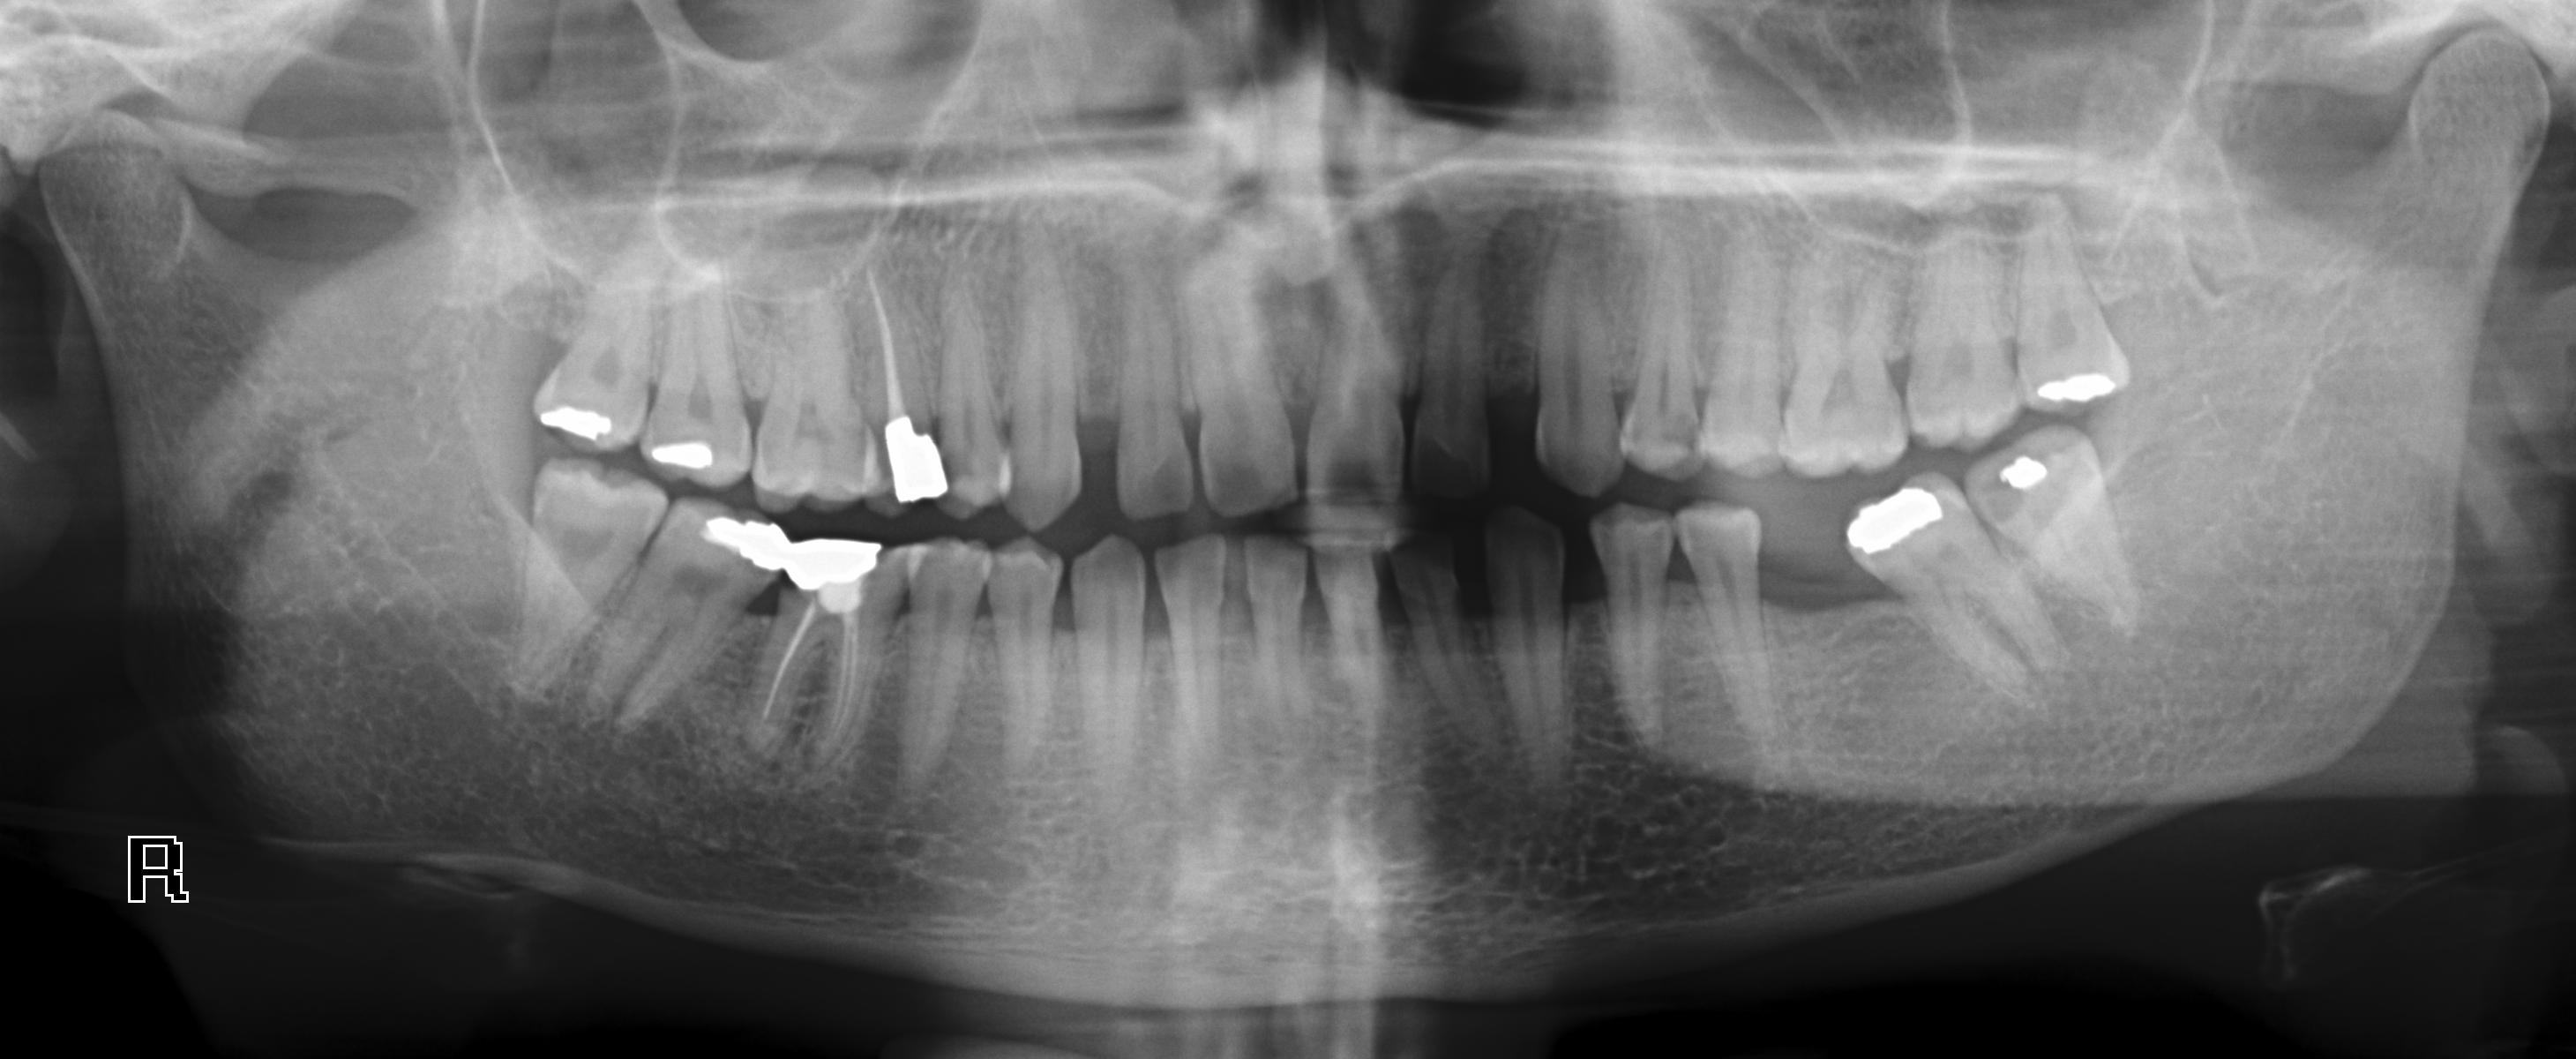Çürük: (1840, 489, 1939, 547), (713, 505, 778, 575), (533, 400, 625, 448), (882, 432, 940, 505), (782, 537, 865, 583), (643, 431, 719, 472), (2038, 368, 2117, 402), (2004, 459, 2048, 487)
Çürük Bölgesi: (1980, 480, 2033, 523), (1672, 411, 1704, 462), (914, 406, 944, 447), (775, 569, 801, 609)
